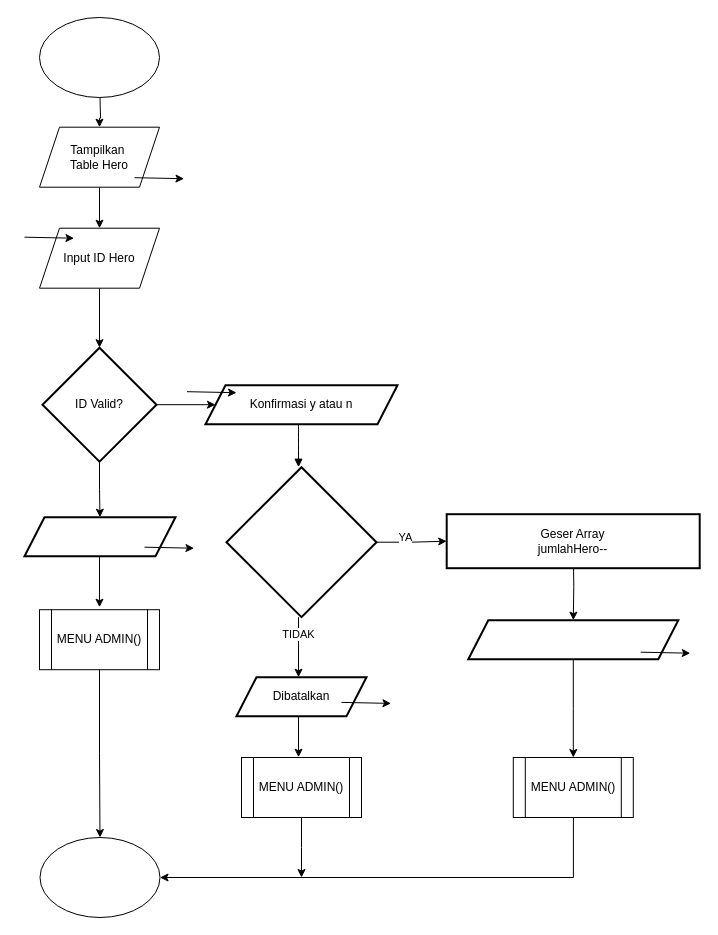
This 718x935 diagram has some shape labels left out. The shapes that lost their labels are listed below. From the top down, each one's box as (x1, y1, x2, y2) in pixels, then its label:
(38, 16, 160, 98): HAPUS HERO()
(23, 516, 176, 557): ID Tidak Valid
(225, 466, 377, 618): konfirm == y?
(467, 619, 679, 660): Hero Berhasil Dihapus
(39, 836, 160, 918): END
